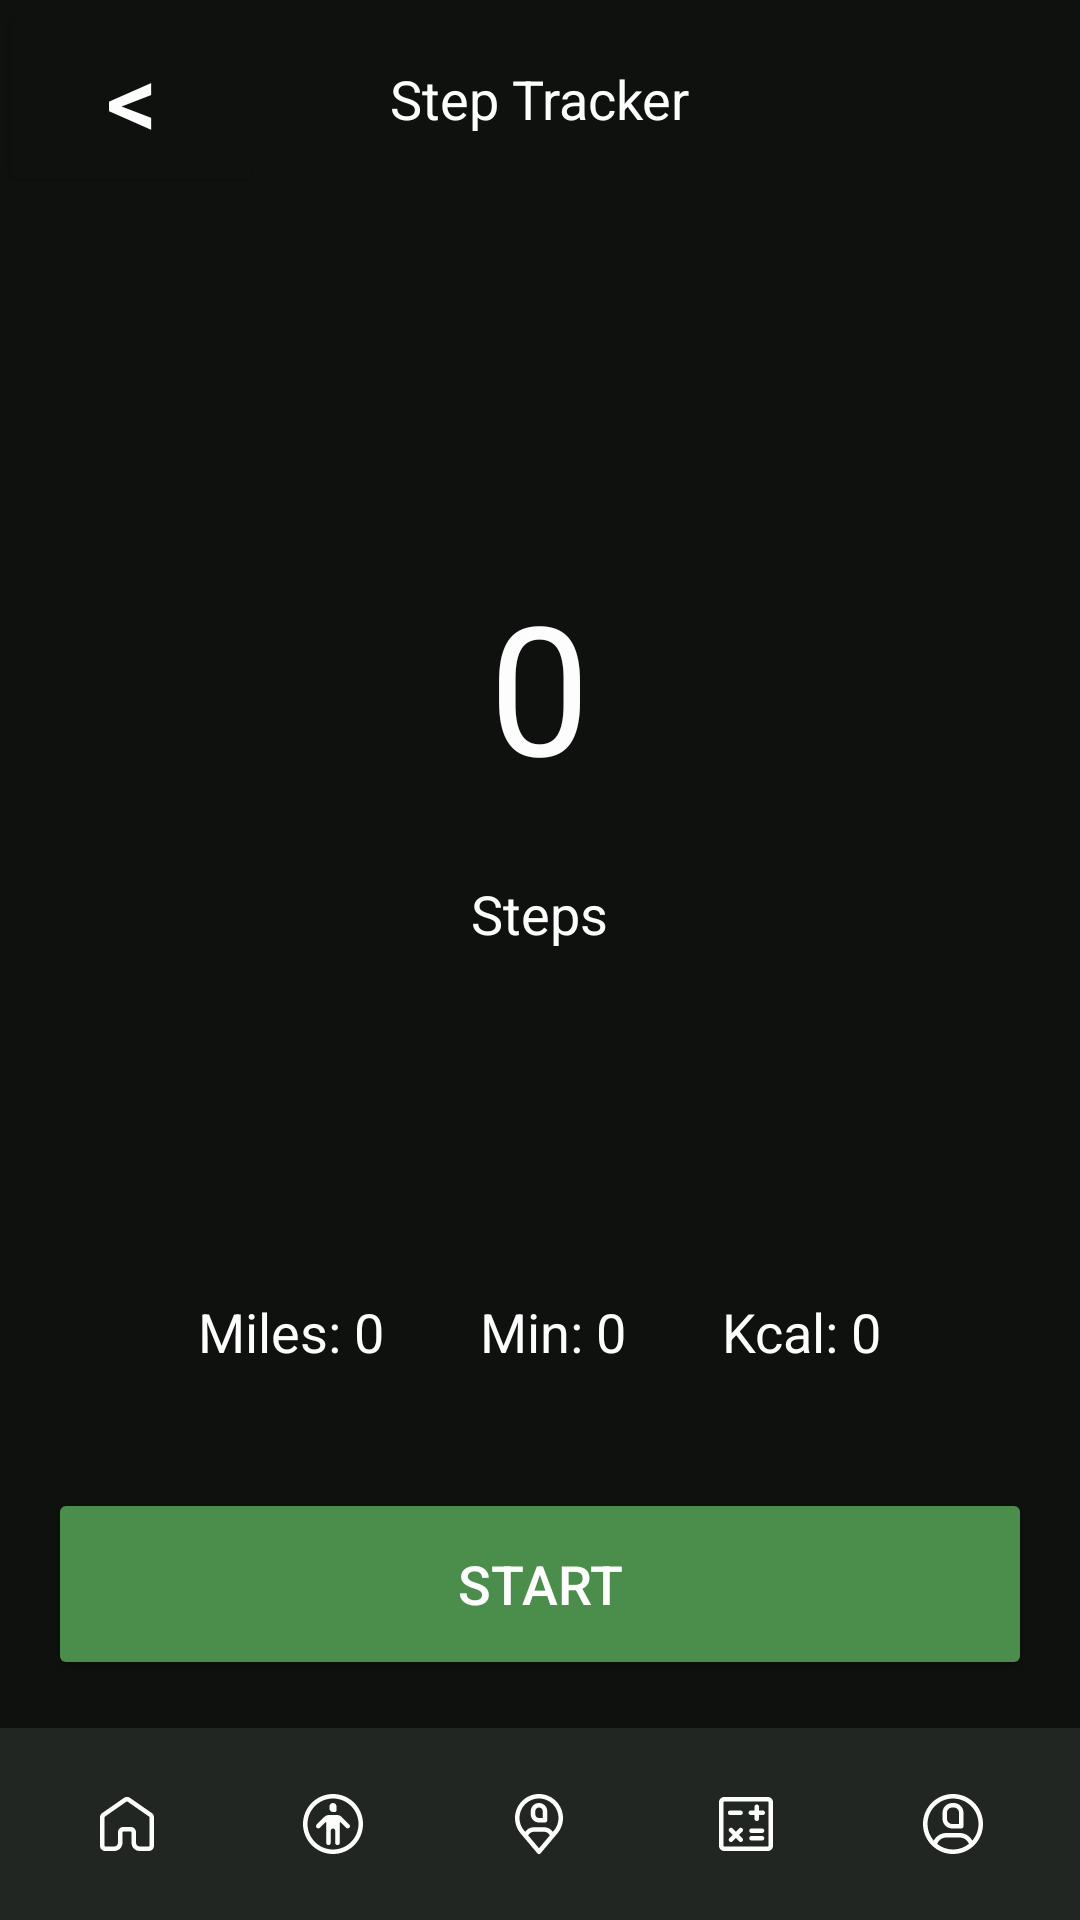

Named icons in this screenshot (1080px x 1920px) and their centers, point (x, y):
system account: point (953, 1824)
system calculate: point (746, 1824)
system home: point (127, 1824)
system location user: point (539, 1824)
